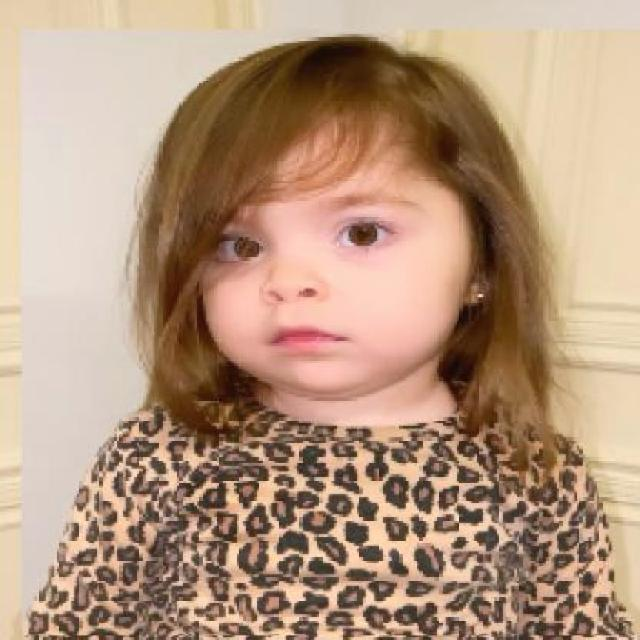child: (20, 29, 640, 637)
